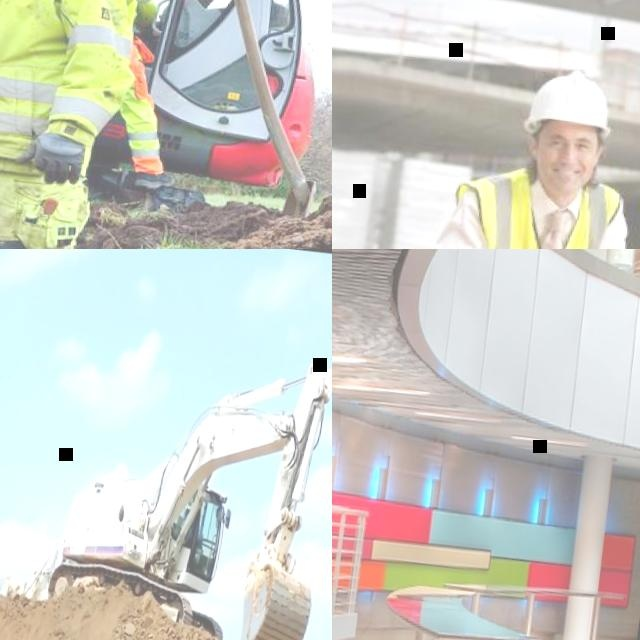Hardhat: (523, 65, 617, 143)
NO-Mask: (541, 161, 591, 198)
Person: (425, 57, 640, 249), (0, 0, 157, 249), (104, 22, 192, 201), (66, 0, 171, 33), (176, 507, 207, 571)
Safety Vest: (0, 0, 163, 164), (0, 0, 145, 170), (442, 160, 623, 249), (63, 0, 150, 26)
machinery: (39, 332, 332, 640), (0, 0, 332, 243), (0, 530, 60, 607)
